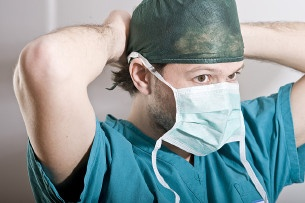Mask: (161, 51, 265, 156)
